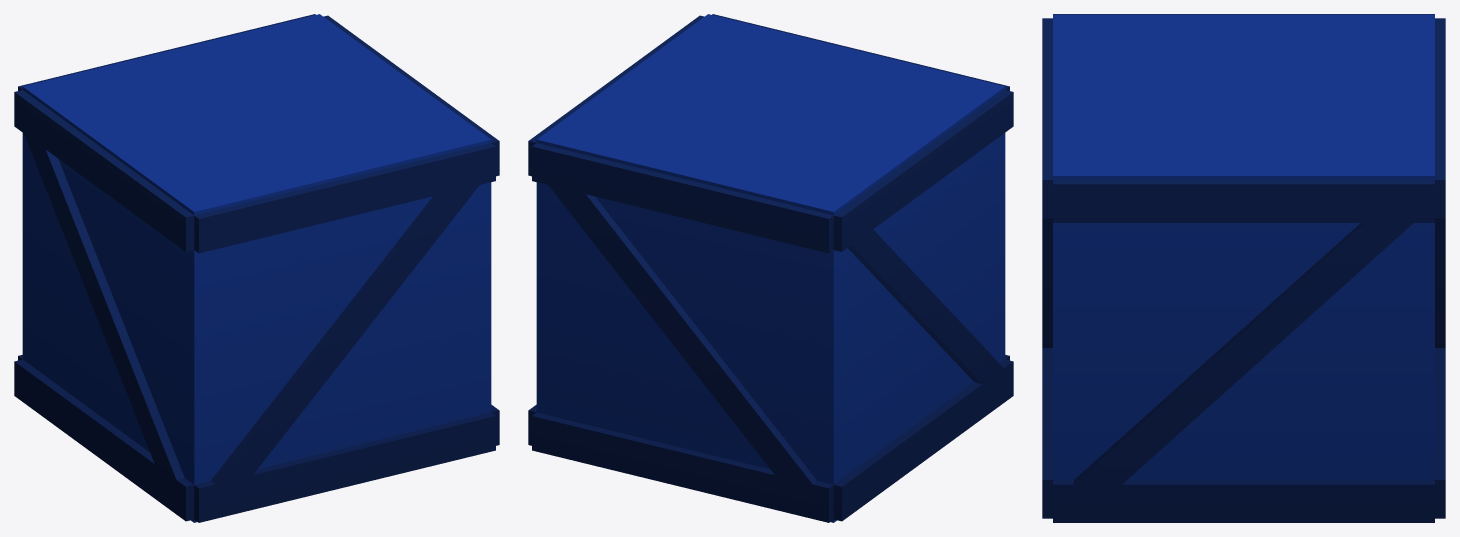
The model's file is crate_blue.glb.
3 renders of one model, left to right at view 1: azimuth 30°, elevation 25°; view 2: azimuth 150°, elevation 25°; view 3: azimuth 270°, elevation 25°, orthographic. The views are drawn at different scales.
Parts seen in each view (by area): view 1: crate_blue_root_body; view 2: crate_blue_root_body; view 3: crate_blue_root_body.
Part boxes in pixels (box(x1,y1,x2,y2)): crate_blue_root_body: box(14, 14, 499, 522); crate_blue_root_body: box(528, 14, 1013, 522); crate_blue_root_body: box(1042, 14, 1445, 522).
Size of the model in its own units: 0.95 by 0.9 by 0.95.
